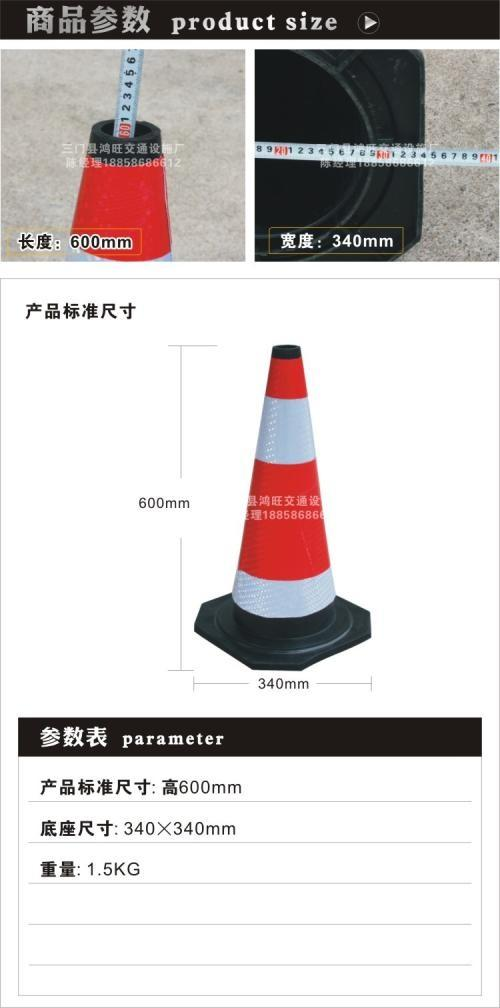cone_barrel: (214, 354, 355, 653), (65, 119, 173, 260)
